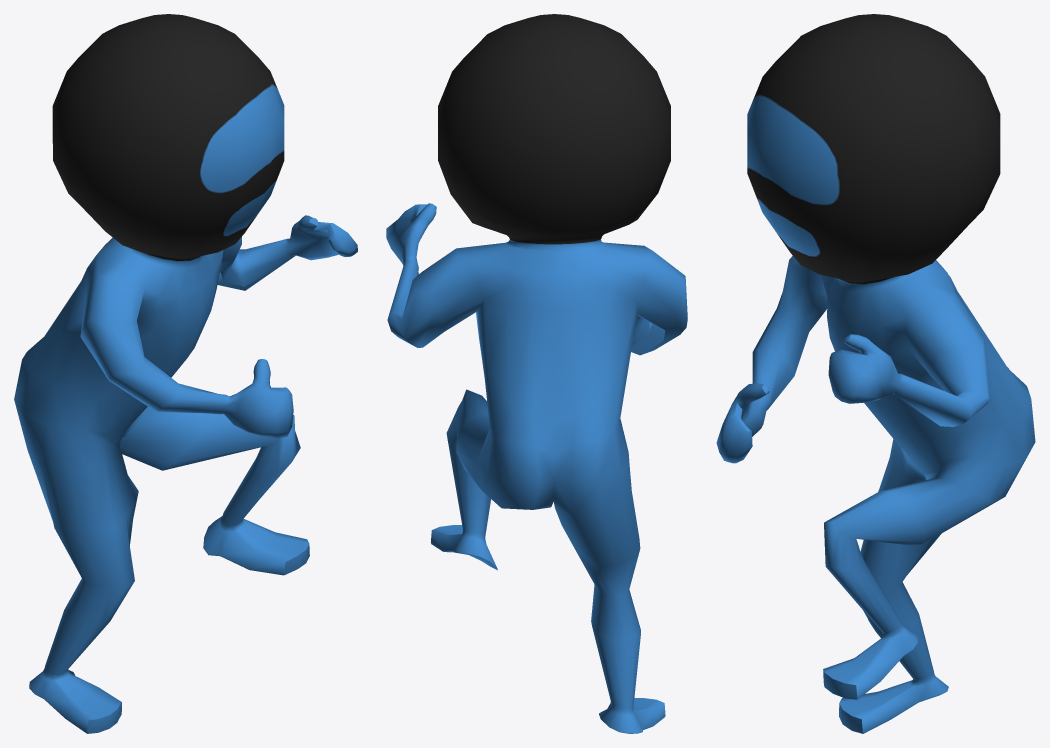
The model's file is finno_spy.obj.
3 renders of one model, left to right at view 1: azimuth 30°, elevation 25°; view 2: azimuth 150°, elevation 25°; view 3: azimuth 270°, elevation 25°, orthographic. The views are drawn at different scales.
Parts seen in each view (by area): view 1: Virtual_Man; view 2: Virtual_Man; view 3: Virtual_Man.
Boxes of the visible parts, box(x1,y1,x2,y2) form: Virtual_Man: box(14, 14, 357, 733); Virtual_Man: box(386, 14, 687, 733); Virtual_Man: box(716, 14, 1035, 733).
Size of the model in its own units: 0.901 by 2.02 by 0.7917.
